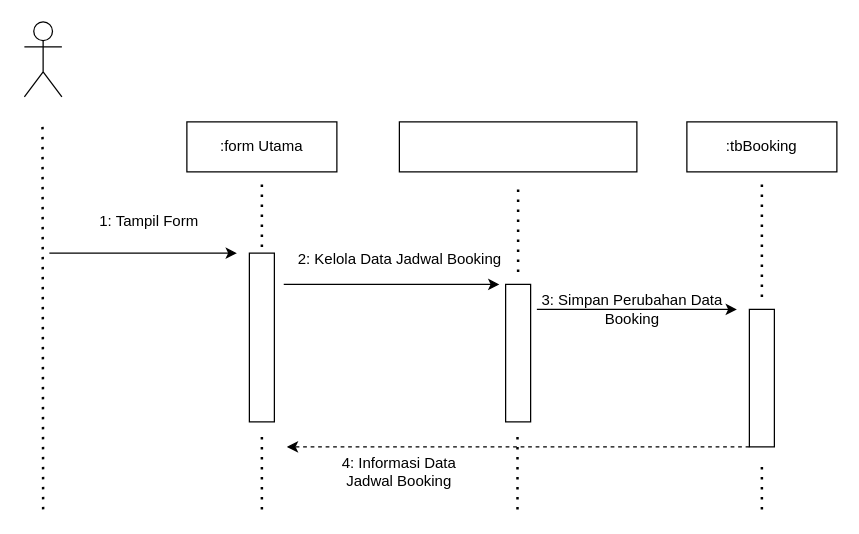
Some shapes in this 859 by 534 pixel diagram are drawn without their labels. Each missing label, with the centre of its shape:
:formKelolaDataJadwalBooking: the point at 517,146
Admin: the point at 42,59
